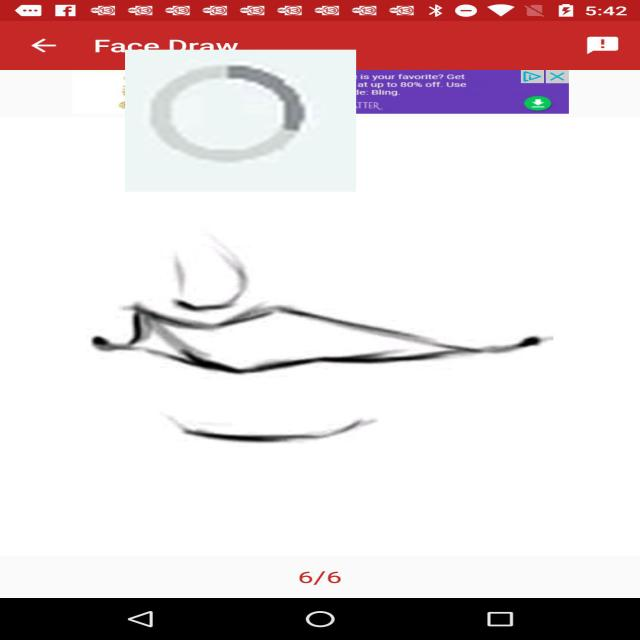misdirection: (125, 50, 356, 192)
